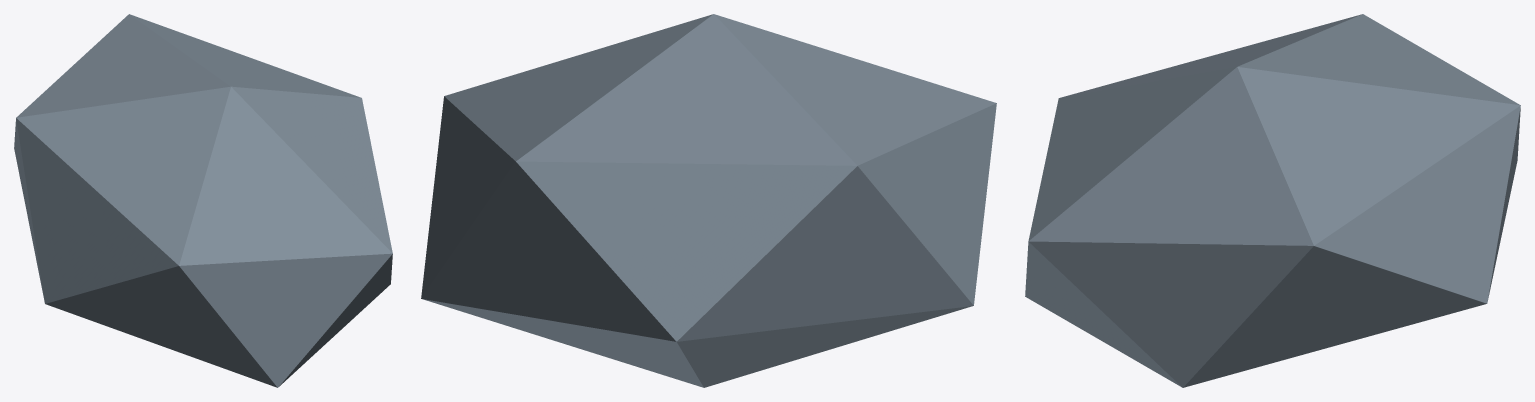
File: INT_B_WallRubble_00_Stone_3.glb
3 views of the same model, side by side, from view 1: azimuth 30°, elevation 25°; view 2: azimuth 150°, elevation 25°; view 3: azimuth 270°, elevation 25° (orthographic). The views are drawn at different scales.
Visible parts, largest first — view 1: INT_B_WallRubble_00_Stone_3; view 2: INT_B_WallRubble_00_Stone_3; view 3: INT_B_WallRubble_00_Stone_3.
Boxes of the visible parts, bbox=[...] form: INT_B_WallRubble_00_Stone_3: bbox=[14, 14, 392, 387]; INT_B_WallRubble_00_Stone_3: bbox=[421, 14, 996, 387]; INT_B_WallRubble_00_Stone_3: bbox=[1025, 14, 1520, 387].
Bounding box in the file's own units: 0.2566 × 0.1707 × 0.2721.
